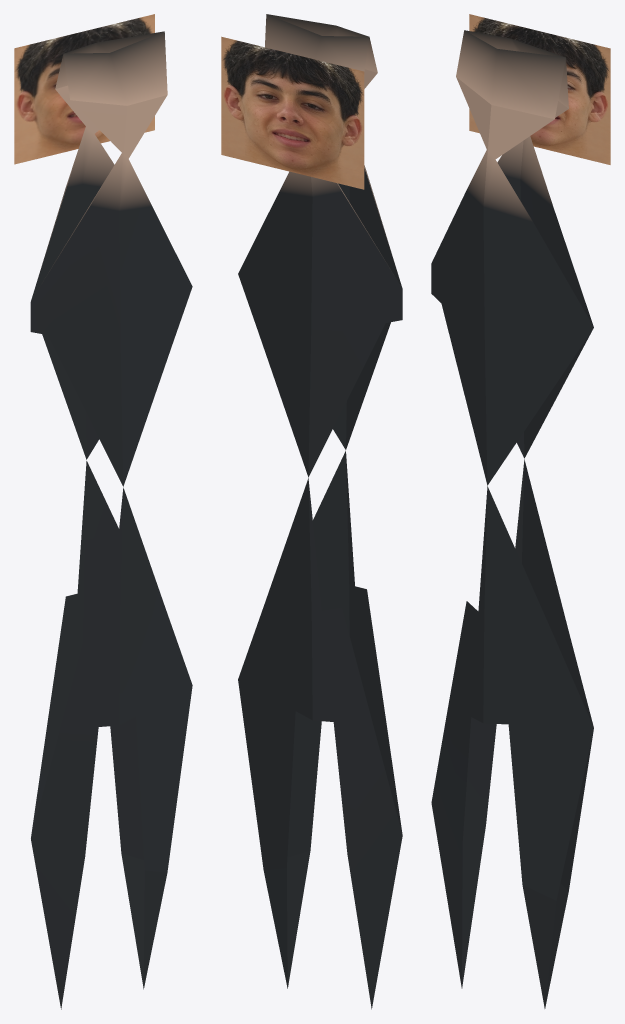
File: ruan_textured.glb
3 views of the same model, side by side, from view 1: azimuth 30°, elevation 25°; view 2: azimuth 150°, elevation 25°; view 3: azimuth 330°, elevation 25° (orthographic).
Visible parts, largest first — view 1: Plano, RostoDaFoto; view 2: Plano, RostoDaFoto; view 3: Plano, RostoDaFoto.
Part boxes in pixels (bbox=[...]): Plano: bbox=[30, 31, 192, 1009]; RostoDaFoto: bbox=[14, 14, 154, 164]; Plano: bbox=[238, 14, 402, 1009]; RostoDaFoto: bbox=[221, 36, 364, 189]; Plano: bbox=[431, 30, 593, 1008]; RostoDaFoto: bbox=[469, 14, 610, 164].
Size of the model in its own units: 0.3279 by 1.85 by 0.1593.
2 materials, 1 textured.
